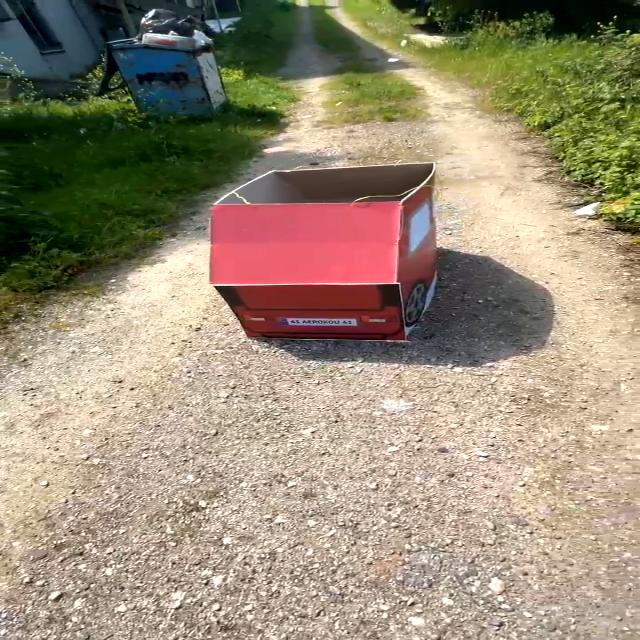red_car: (168, 139, 486, 358)
